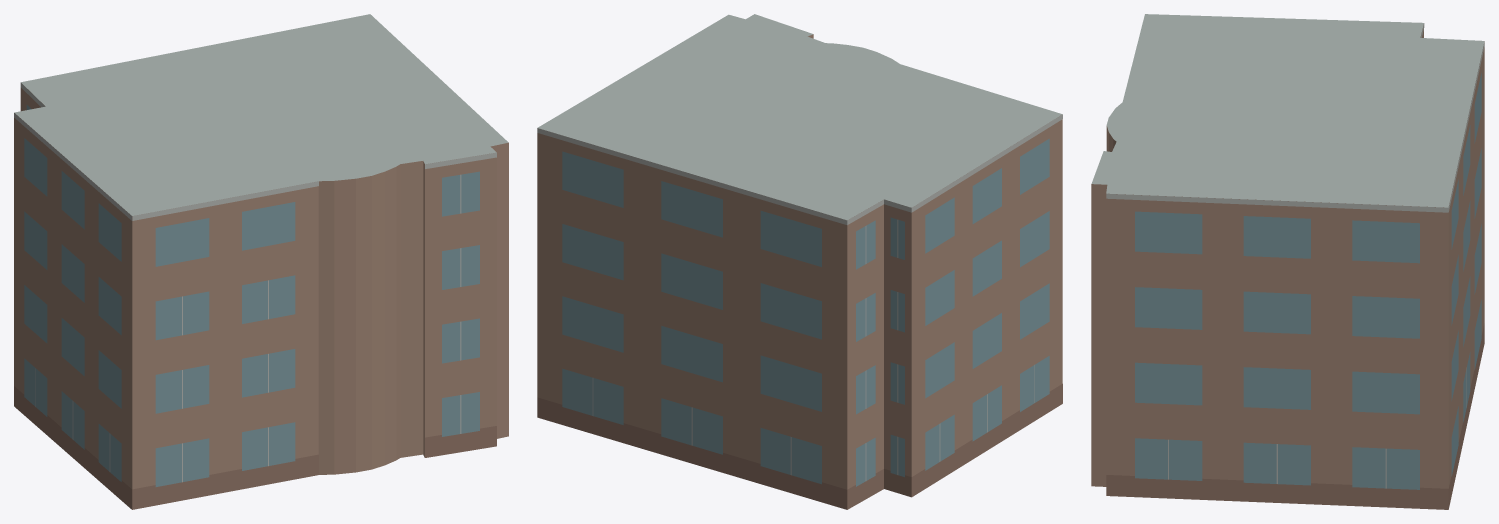
File: survey-upis-32837047.glb
3 views of the same model, side by side, from view 1: azimuth 30°, elevation 25°; view 2: azimuth 150°, elevation 25°; view 3: azimuth 270°, elevation 25° (orthographic). The views are drawn at different scales.
Visible parts, largest first — view 1: survey-upis-32837047.tmp; view 2: survey-upis-32837047.tmp; view 3: survey-upis-32837047.tmp.
Part boxes in pixels (x1,y1,x2,y2): survey-upis-32837047.tmp: (14,14,508,509); survey-upis-32837047.tmp: (537,14,1062,509); survey-upis-32837047.tmp: (1091,14,1484,509).
Size of the model in its own units: 19.92 by 14.49 by 17.09.
